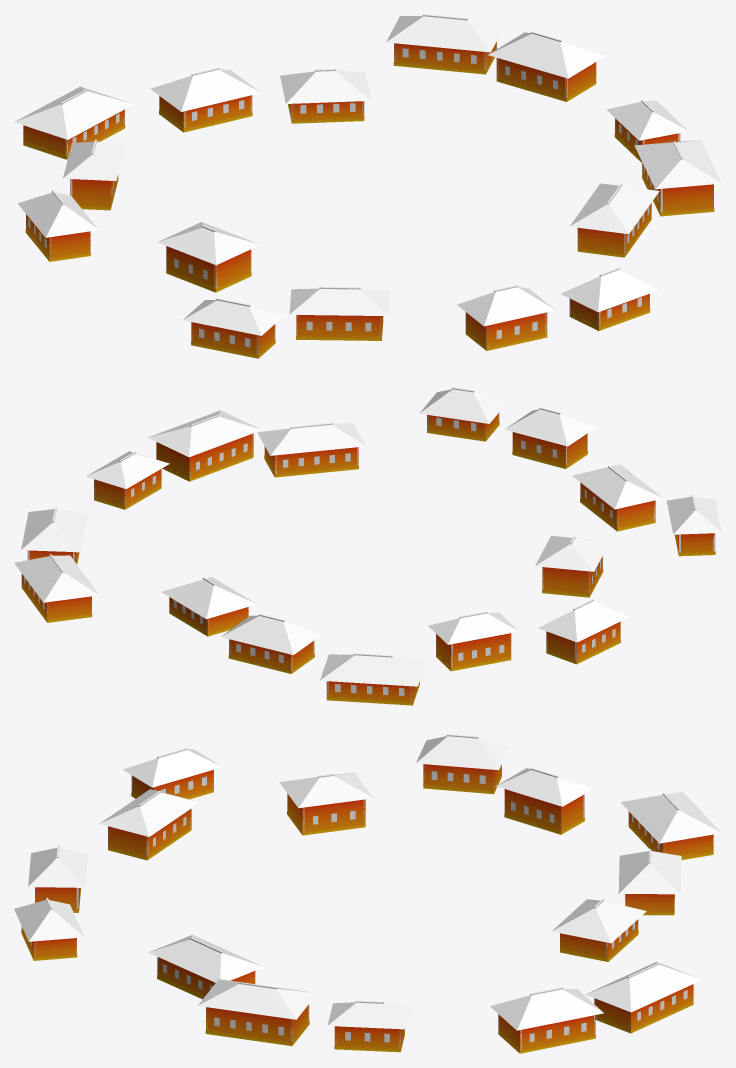
The model's file is SM_Env_Halls.fbx.
3 views of the same model, one above another, from view 1: azimuth 30°, elevation 25°; view 2: azimuth 150°, elevation 25°; view 3: azimuth 270°, elevation 25° (orthographic). The views are drawn at different scales.
Visible parts, largest first — view 1: SM_Env_Halls; view 2: SM_Env_Halls; view 3: SM_Env_Halls.
Part boxes in pixels (x1,y1,x2,y2): SM_Env_Halls: [14, 14, 721, 358]; SM_Env_Halls: [14, 387, 721, 705]; SM_Env_Halls: [14, 734, 721, 1053].
Bounding box in the file's own units: 118 × 8.96 × 121.
